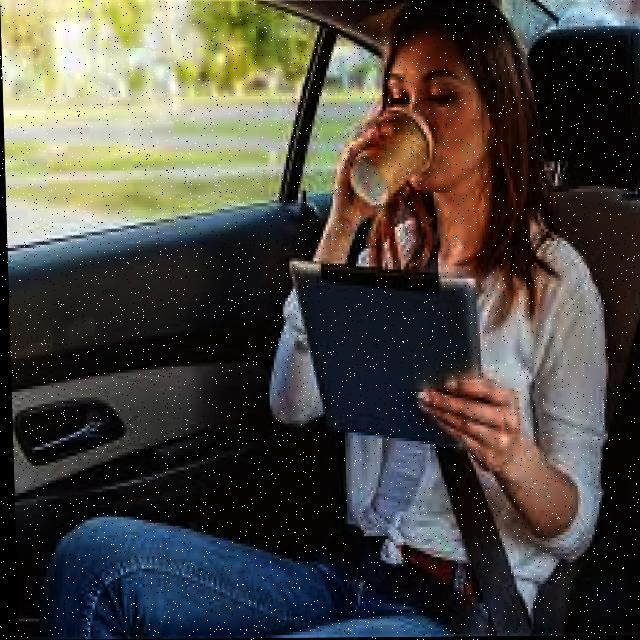seatbelt: (320, 380, 548, 638)
